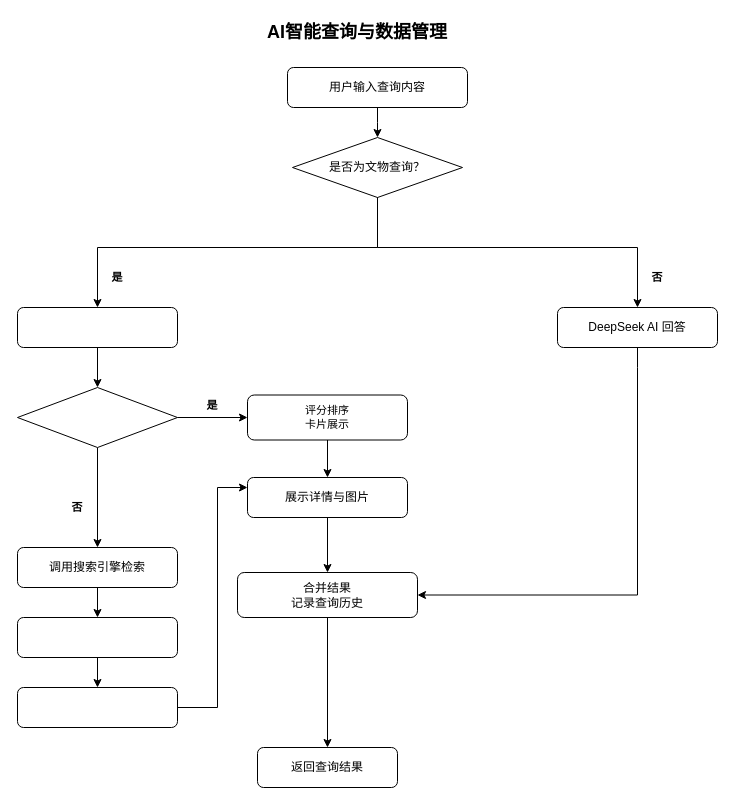
Some shapes in this 735 by 805 pixel diagram are drawn without their labels. The centre of each missing label's shape, as x and y in pixels:
抓取网页图片信息: pixel 97 637
排序后卡片展示: pixel 97 707
是否匹配成功？: pixel 97 417
馆藏 MySQL 检索: pixel 97 327
